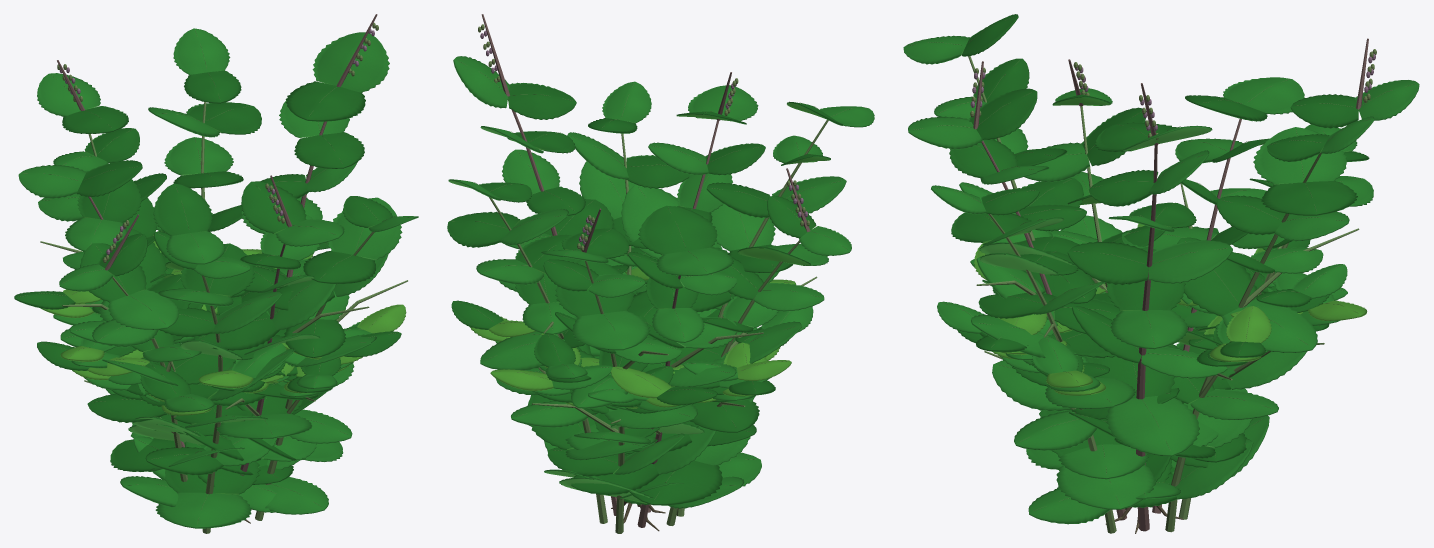
Rendered from tulsi-custom-v1.glb.
The picture shows the model from 3 angles, left to right: view 1: azimuth 30°, elevation 25°; view 2: azimuth 150°, elevation 25°; view 3: azimuth 270°, elevation 25°; orthographic projection. The views are drawn at different scales.
Visible parts, largest first — view 1: Tulsi_Leaves, Tulsi_Stems, Tulsi_Flower_Spikes, Tulsi_Leaf_Veins; view 2: Tulsi_Leaves, Tulsi_Stems, Tulsi_Flower_Spikes, Tulsi_Leaf_Veins; view 3: Tulsi_Leaves, Tulsi_Stems, Tulsi_Leaf_Veins, Tulsi_Flower_Spikes.
Boxes of the visible parts, x1=… form: Tulsi_Leaves: x1=14, y1=28, x2=418, y2=528; Tulsi_Stems: x1=40, y1=102, x2=407, y2=533; Tulsi_Flower_Spikes: x1=57, y1=14, x2=378, y2=270; Tulsi_Leaf_Veins: x1=18, y1=30, x2=409, y2=523; Tulsi_Leaves: x1=447, y1=56, x2=874, y2=508; Tulsi_Stems: x1=489, y1=99, x2=828, y2=533; Tulsi_Flower_Spikes: x1=478, y1=14, x2=810, y2=252; Tulsi_Leaf_Veins: x1=452, y1=60, x2=865, y2=499; Tulsi_Leaves: x1=903, y1=14, x2=1419, y2=524; Tulsi_Stems: x1=968, y1=56, x2=1359, y2=533; Tulsi_Leaf_Veins: x1=907, y1=17, x2=1414, y2=510; Tulsi_Flower_Spikes: x1=970, y1=38, x2=1376, y2=145.
Size of the model in its own units: 1.34 by 1.67 by 1.5.
Materials: 12 (6 with a texture image).
